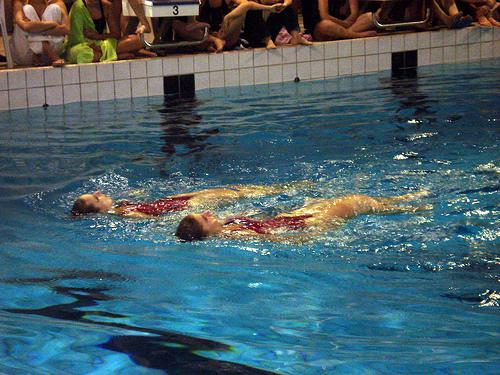human: (171, 186, 433, 244), (68, 169, 314, 219)
